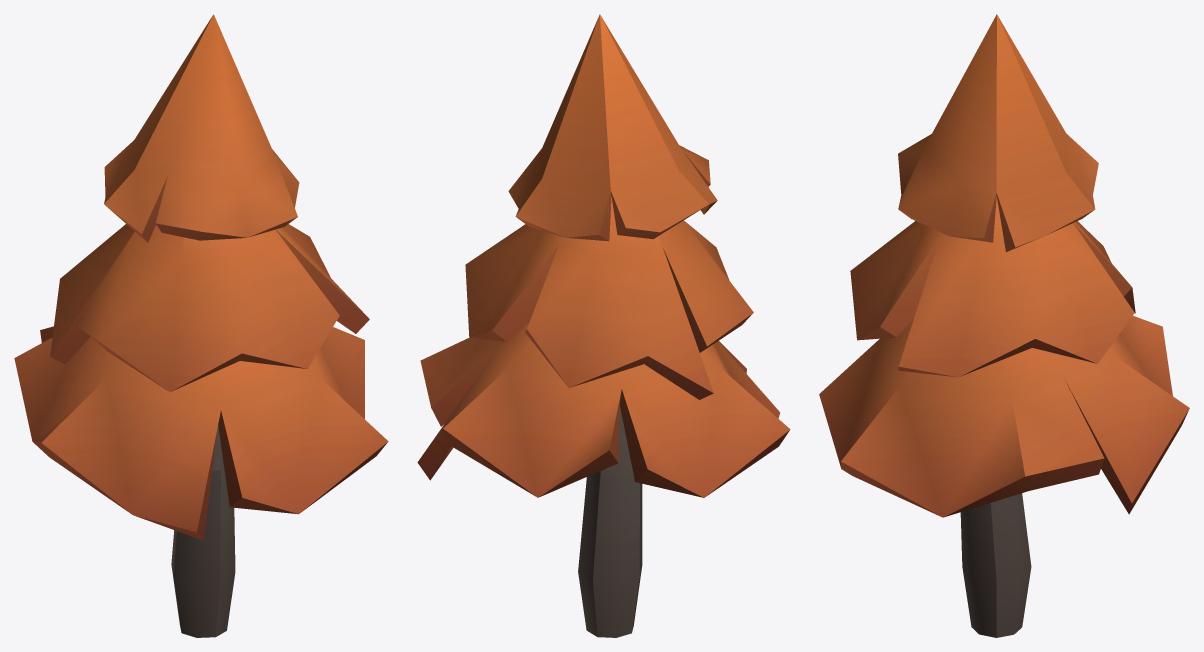
File: kaykit-halloween-bits-tree-pine-orange-small.glb
3 views of the same model, side by side, from view 1: azimuth 30°, elevation 25°; view 2: azimuth 150°, elevation 25°; view 3: azimuth 270°, elevation 25° (orthographic).
Parts seen in each view (by area): view 1: tree_pine_orange_small; view 2: tree_pine_orange_small; view 3: tree_pine_orange_small.
Part boxes in pixels (x1=…): tree_pine_orange_small: x1=14, y1=14, x2=388, y2=637; tree_pine_orange_small: x1=417, y1=14, x2=790, y2=637; tree_pine_orange_small: x1=819, y1=14, x2=1189, y2=637.
Bounding box in the file's own units: 2.4 × 4.04 × 2.2.
1 material, 1 textured.
